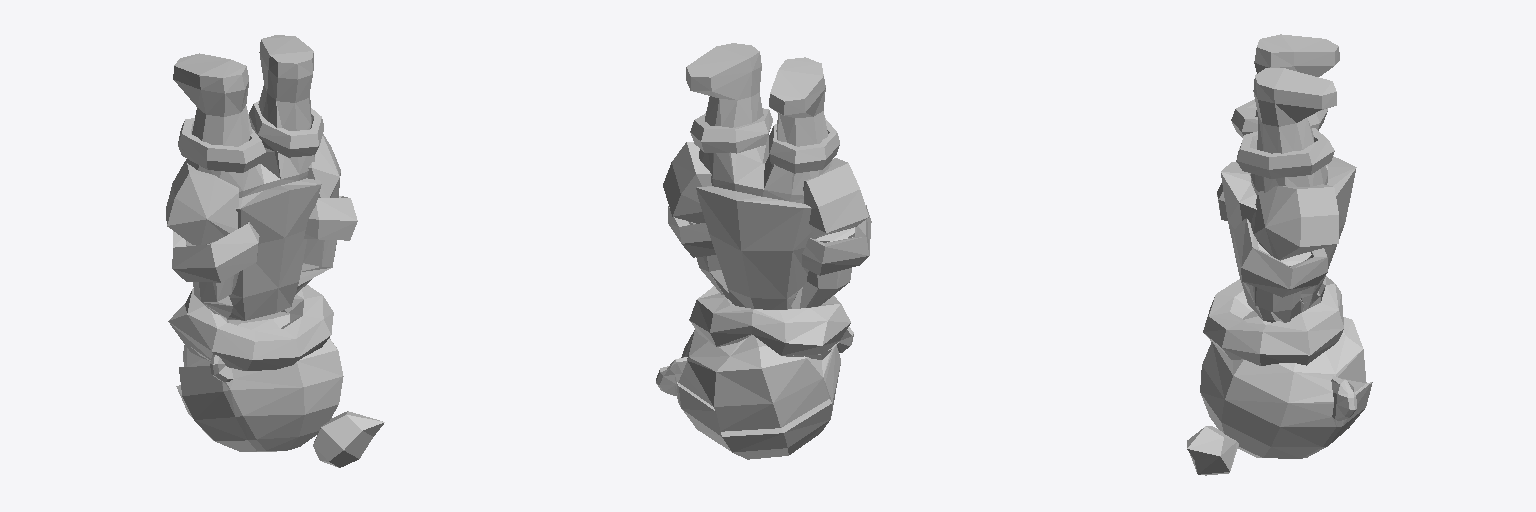
Rendered from eikastanding_000175.obj.
The picture shows the model from 3 angles: view 1: azimuth 30°, elevation 25°; view 2: azimuth 150°, elevation 25°; view 3: azimuth 270°, elevation 25°; orthographic projection.
Parts seen in each view (by area): view 1: Cylinder; view 2: Cylinder; view 3: Cylinder.
Part boxes in pixels (x1,y1,x2,y2): Cylinder: (166,35,384,467); Cylinder: (656,43,871,459); Cylinder: (1187,34,1372,475).
Bounding box in the file's own units: 25.99 × 51.35 × 21.99.